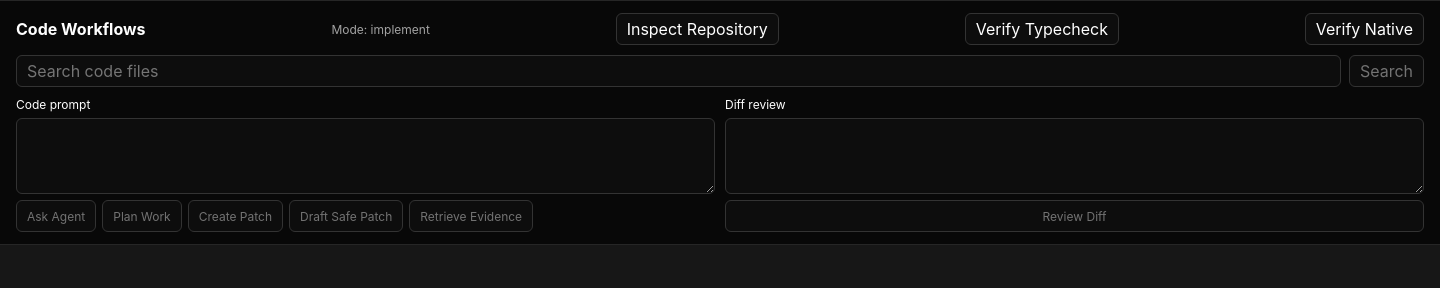
Test: CodeWorkflowPanel › displays structured 400 route errors without dumping backend details
Type "x" into the field with placeholder "Search code files" at (678, 71), box x1=16 y1=55 x2=1341 y2=87
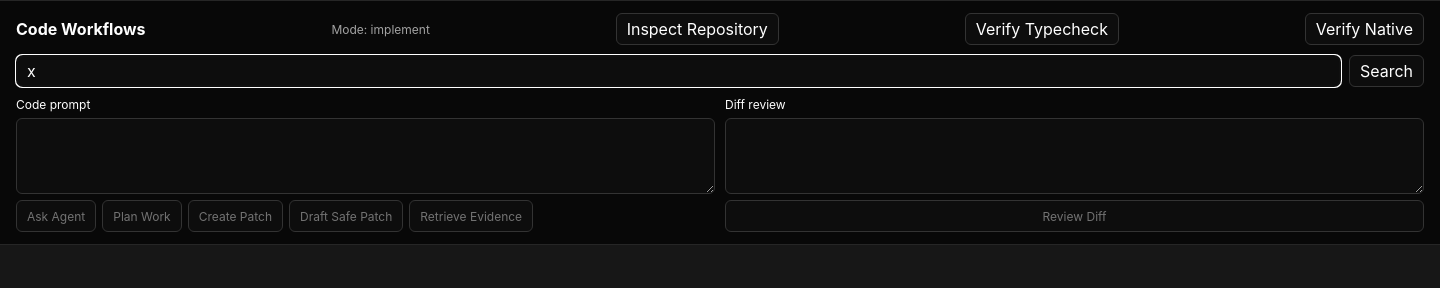
Click the button "Search" at (1386, 71), box x1=1349 y1=55 x2=1424 y2=87
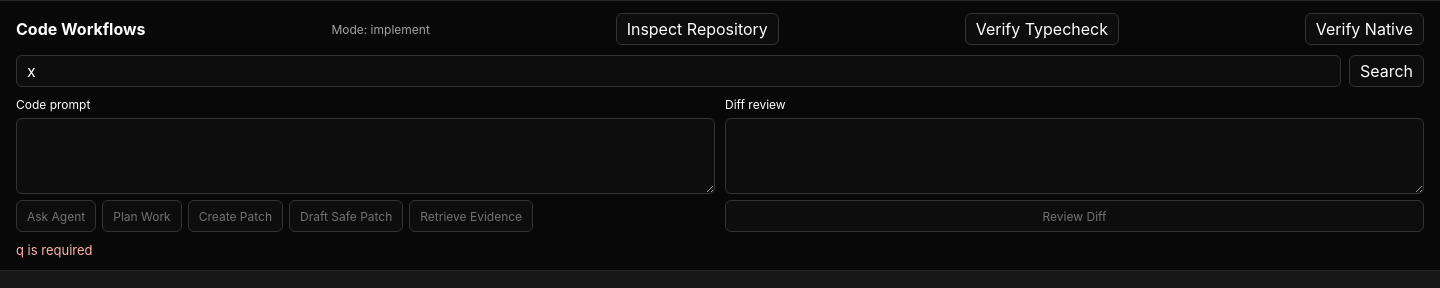
Expected: the text "q is required" is shown, x1=16 y1=242 x2=93 y2=258
